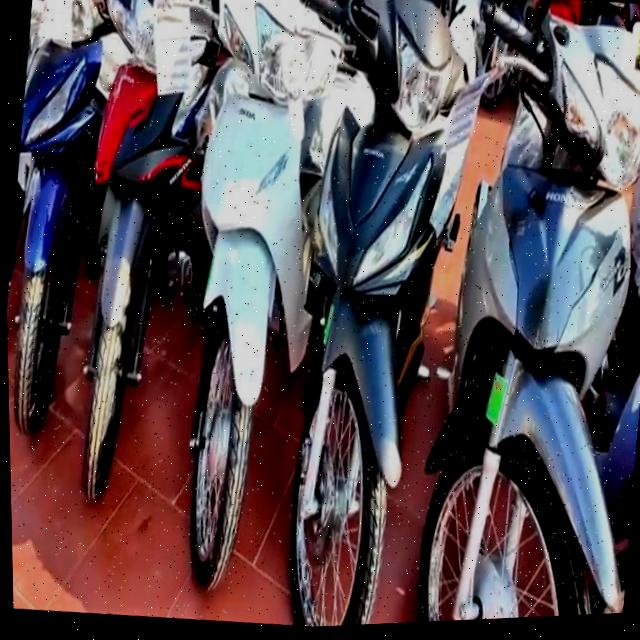motorcycle: (255, 0, 489, 629), (408, 0, 640, 622), (0, 0, 211, 608), (136, 0, 344, 604)
